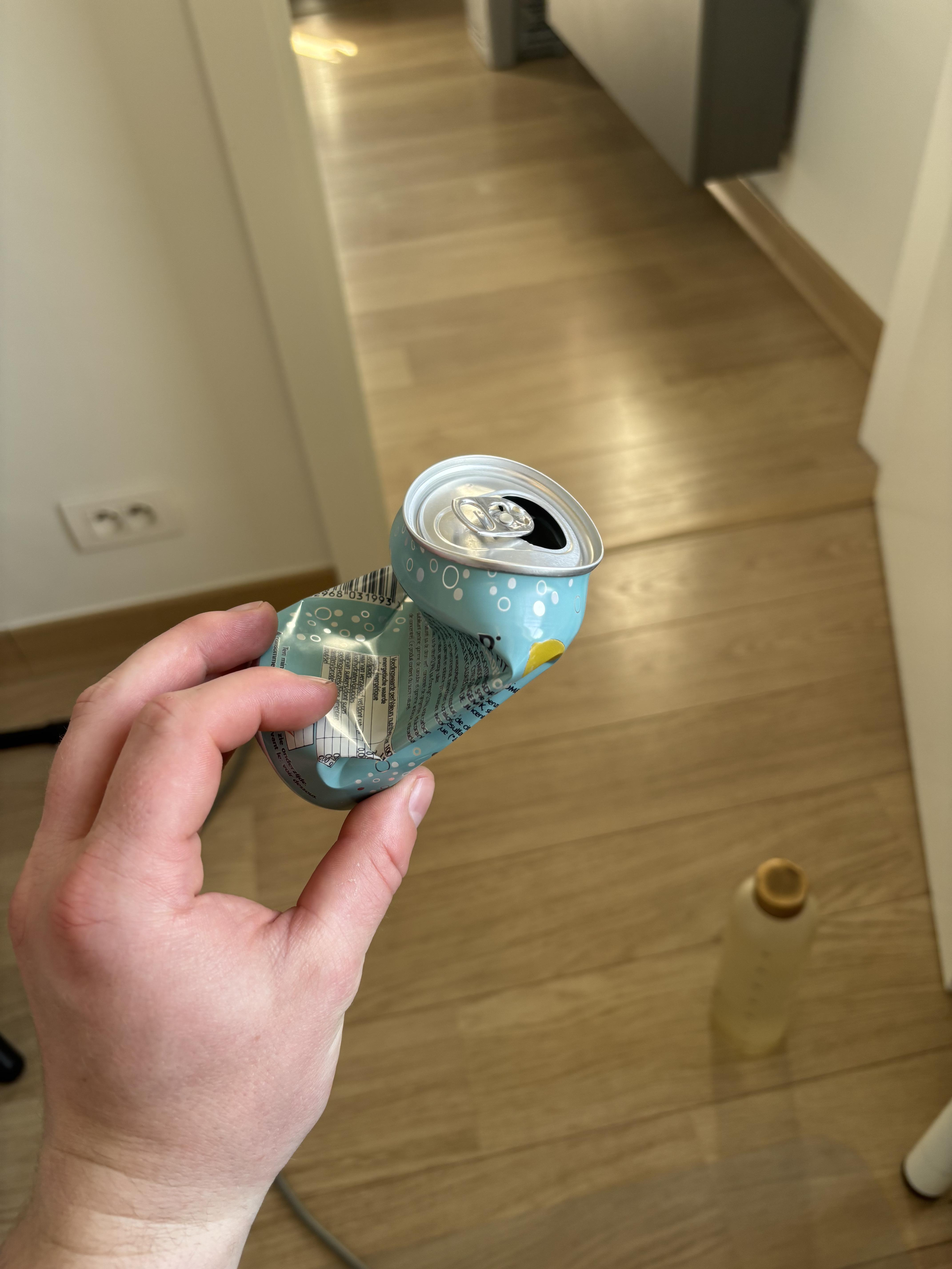Metal: (256, 452, 624, 841)
